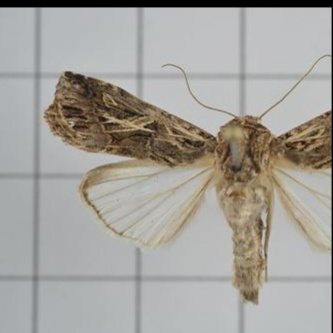Spodoptera litura: (42, 54, 331, 305)
